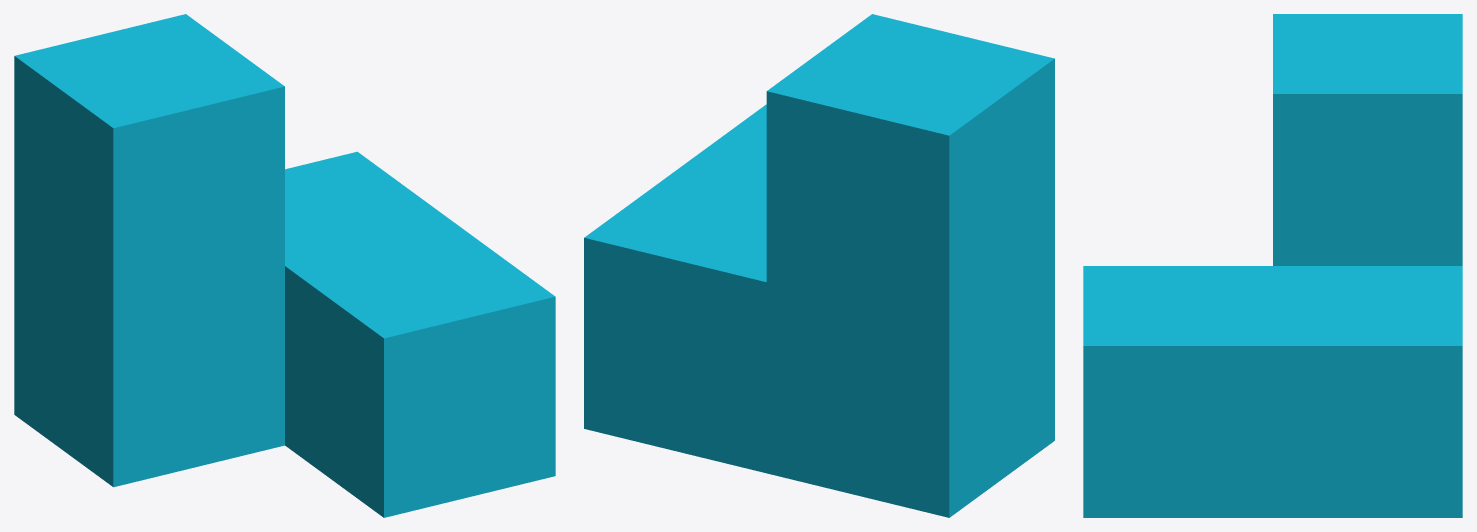
The model's file is zigzag.fbx.
3 renders of one model, left to right at view 1: azimuth 30°, elevation 25°; view 2: azimuth 150°, elevation 25°; view 3: azimuth 270°, elevation 25°, orthographic. The views are drawn at different scales.
Visible parts, largest first — view 1: Cube.001; view 2: Cube.001; view 3: Cube.001.
Boxes of the visible parts, <box> form: Cube.001: <box>14,14,555,517</box>; Cube.001: <box>584,14,1054,517</box>; Cube.001: <box>1083,14,1462,517</box>.
Size of the model in its own units: 400 by 400 by 400.
